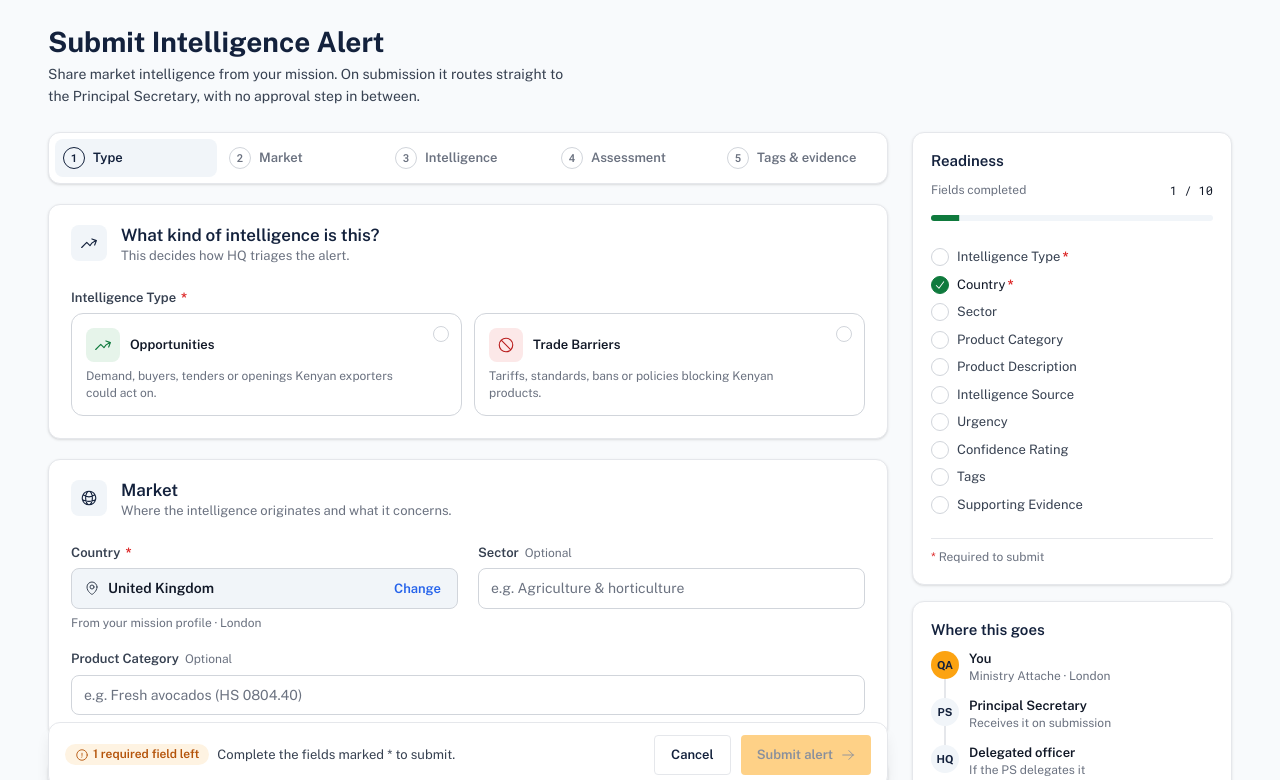
Test: AlertSubmitPage › TC-FR-ALERT-002-D: pre-fills Country from the attache mission profile and lets them change it
The width and height of the screenshot is (1280, 780).
Expected: the text with test id "alert-country-prefilled" reads "United Kingdom", [108,580,214,596]
Expected: the text "From your mission profile · London" is shown, [71,616,261,630]
Click the radio button labelled "Opportunities" at [103, 345], box [71,313,462,416]
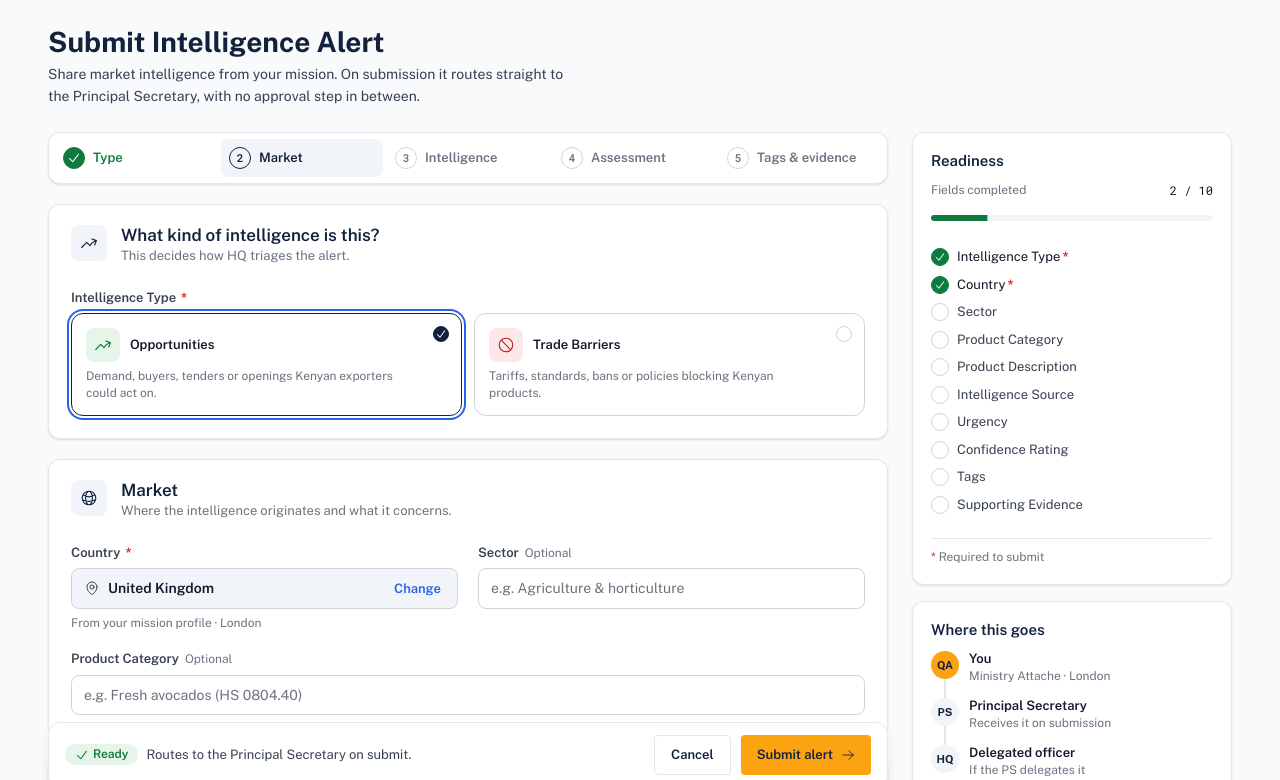
Click the button "Submit alert" at [806, 755], box [741,735,871,775]
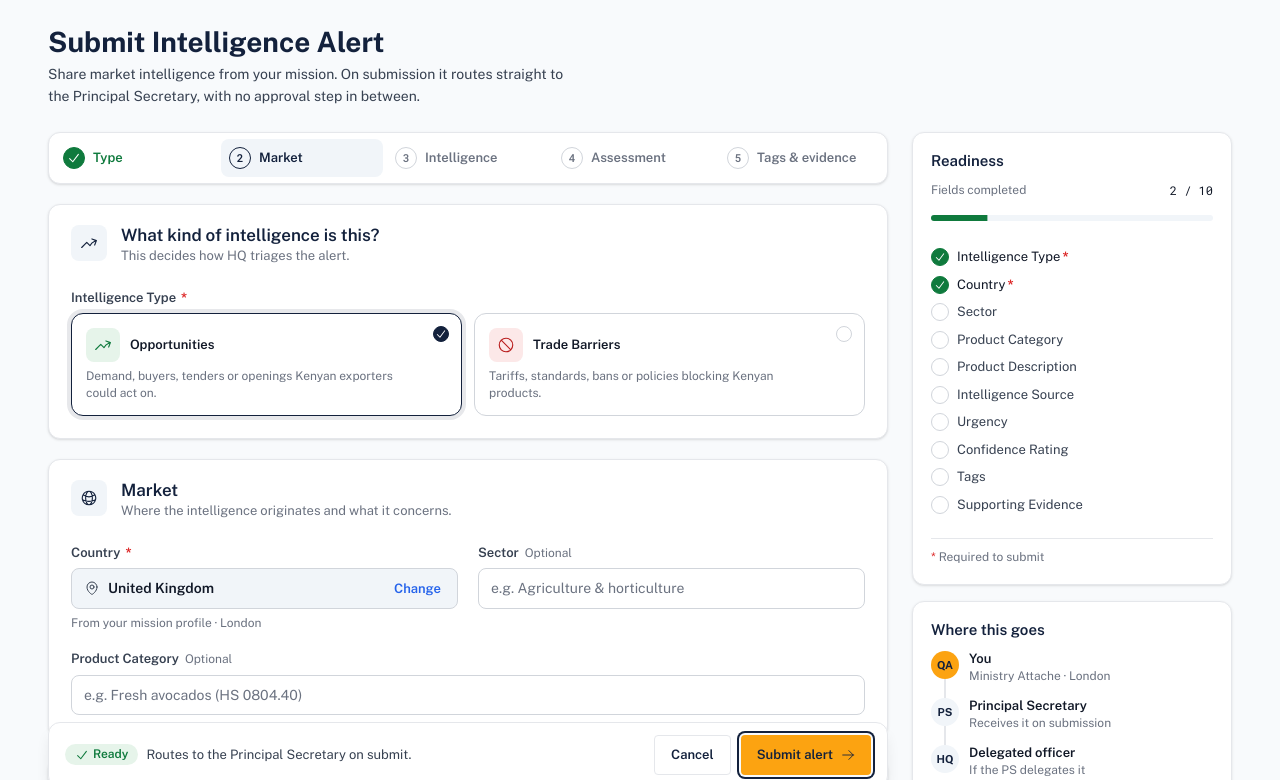
Click the button with aria-label "Change Country" at [418, 588], box [390,582,445,595]
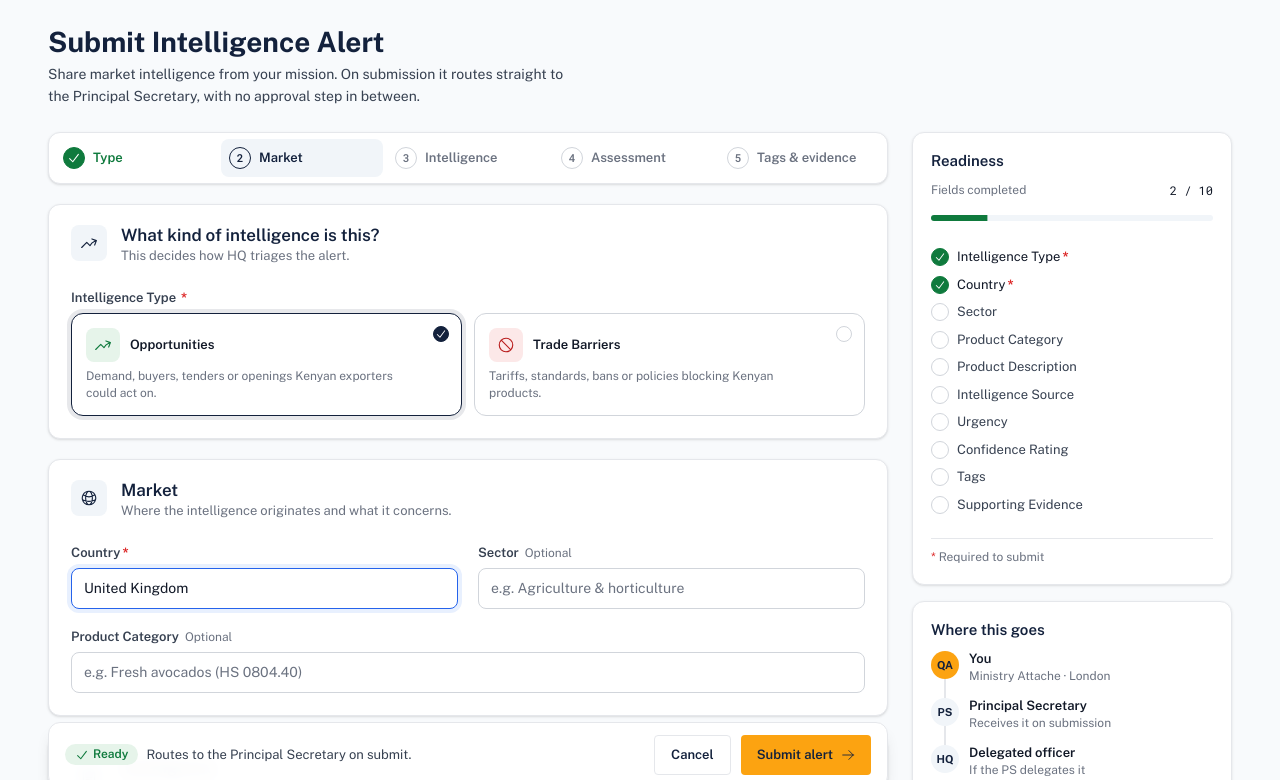
Expected: the field labelled "Country*" holds "United Kingdom", [71,568,458,609]
